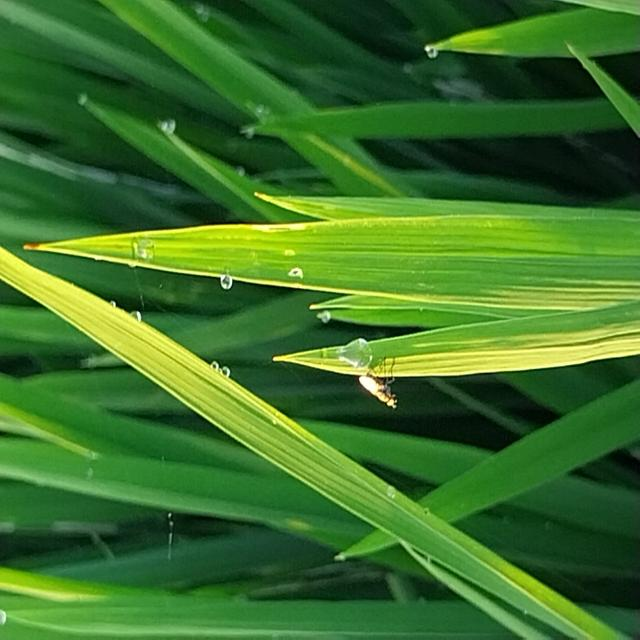healthy: (345, 365, 414, 425)
